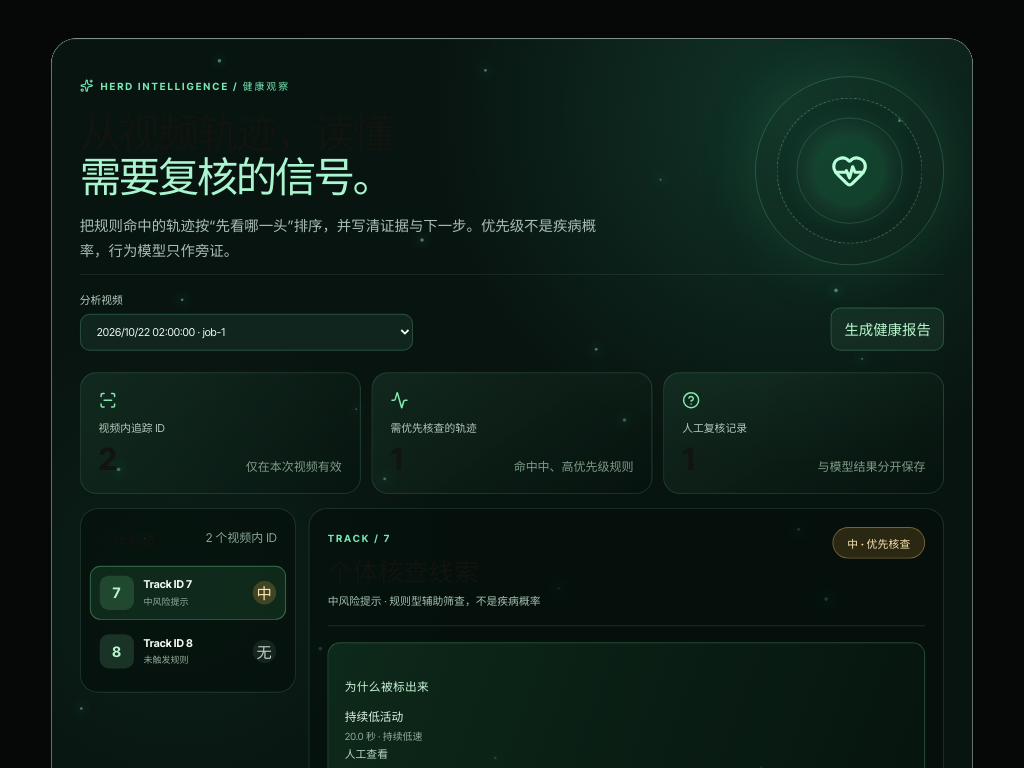
Test: shows review priority and evidence instead of a bare rule score
Expected: the text "持续低活动" is shown, [345,709,403,724]
Expected: the text "中 · 优先核查" is shown, [833,527,925,559]
Click the button "生成健康报告". click: {"x": 888, "y": 329}
box: [831,307,944,350]
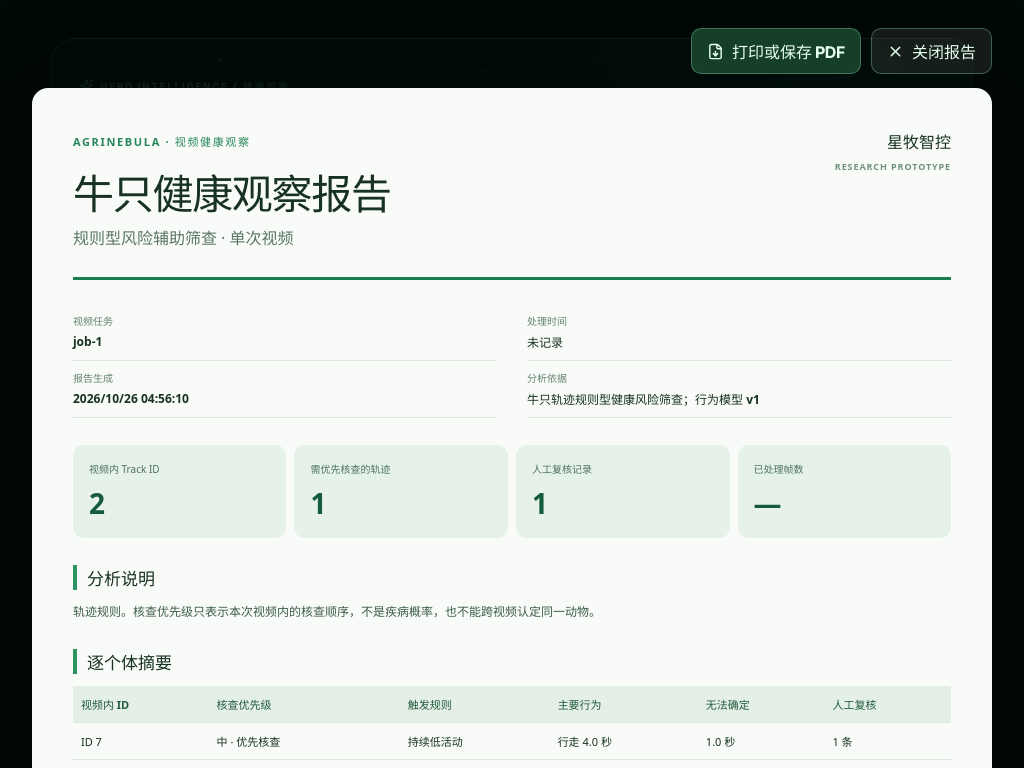
Expected: the dialog "牛只健康观察报告" is shown
Click the button "关闭报告". click: {"x": 932, "y": 51}
box: [871,28,992,74]
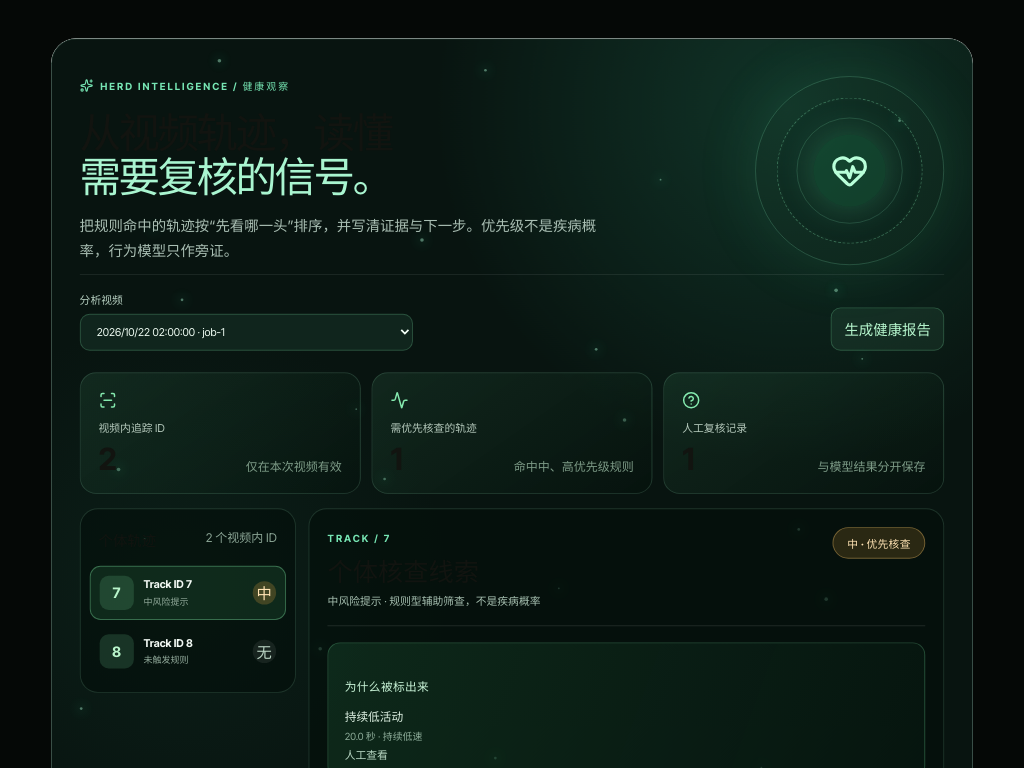
Click the button "8 Track ID 8 未触发规则 无". click: {"x": 188, "y": 651}
box: [90,624,286,678]
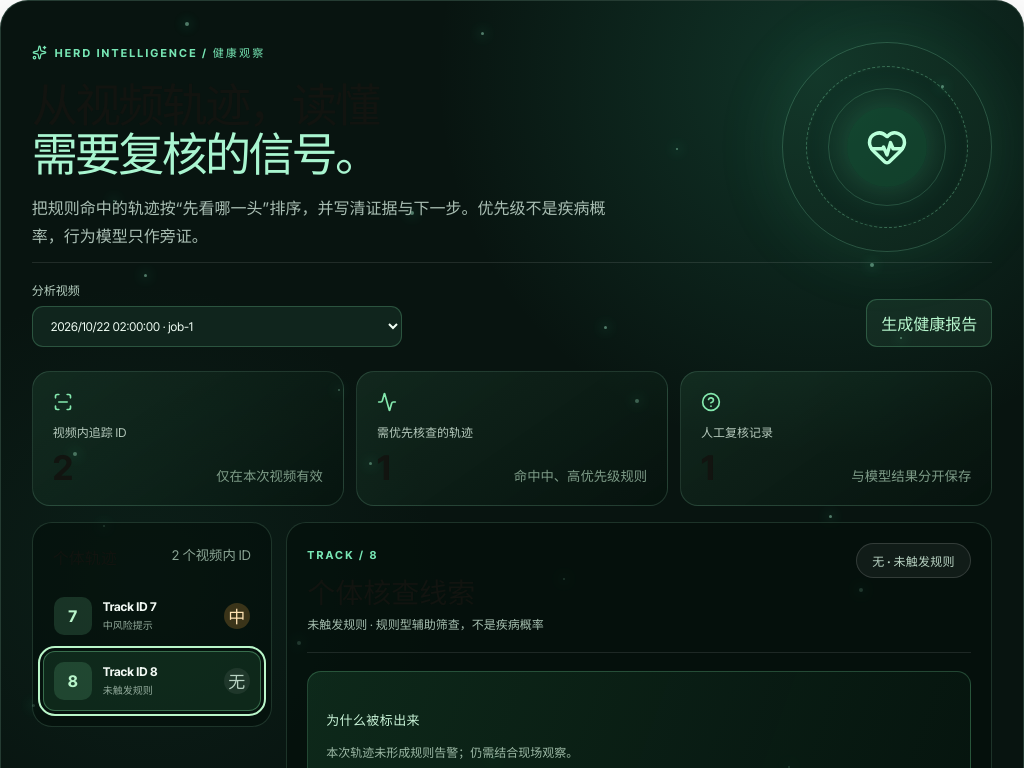
Expected: the text "本次轨迹未形成规则告警；仍需结合现场观察。" is shown, [326,745,578,760]
Expected: the text "无 · 未触发规则" is shown, [856,543,971,578]
